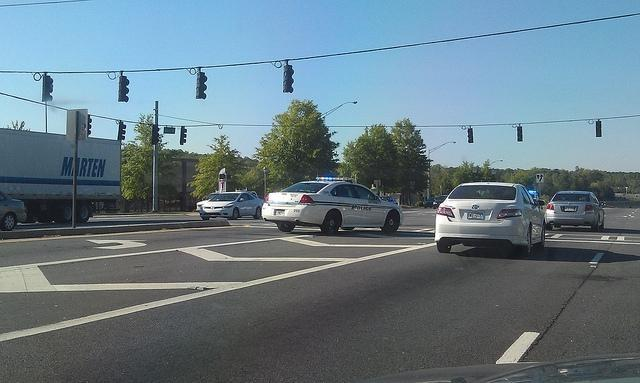car: (434, 181, 546, 256), (262, 176, 405, 234), (546, 190, 606, 232), (200, 191, 265, 220), (0, 191, 28, 231), (422, 197, 443, 209)
truck: (0, 128, 121, 224)
